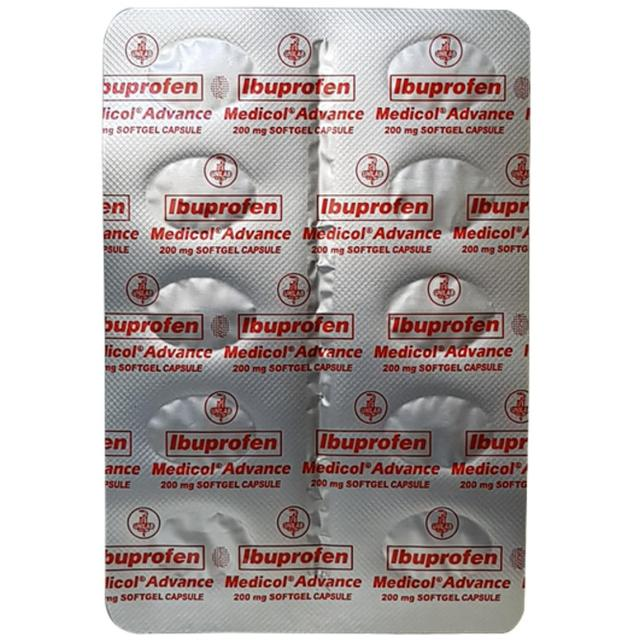blister: (100, 3, 537, 639)
